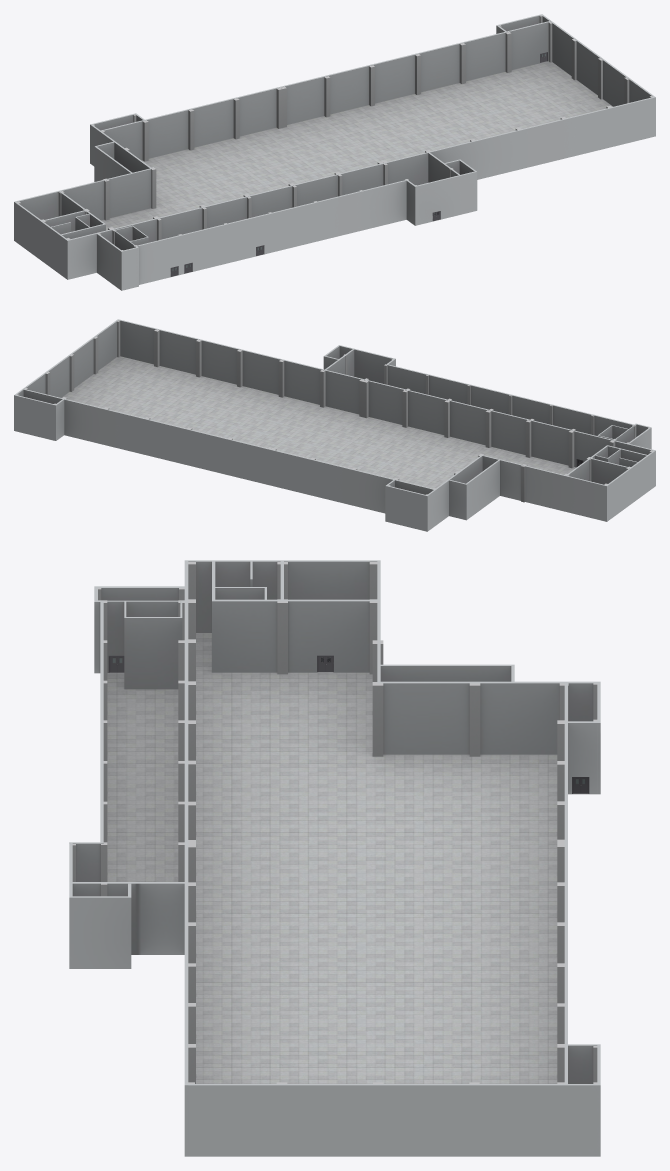
Rendered from LXWZ_4-2F.glb.
3 renders of one model, top to bottom at view 1: azimuth 30°, elevation 25°; view 2: azimuth 150°, elevation 25°; view 3: azimuth 270°, elevation 25°, orthographic. The views are drawn at different scales.
Size of the model in its own units: 120 by 7.63 by 51.48.
Materials: 1 (1 with a texture image).
